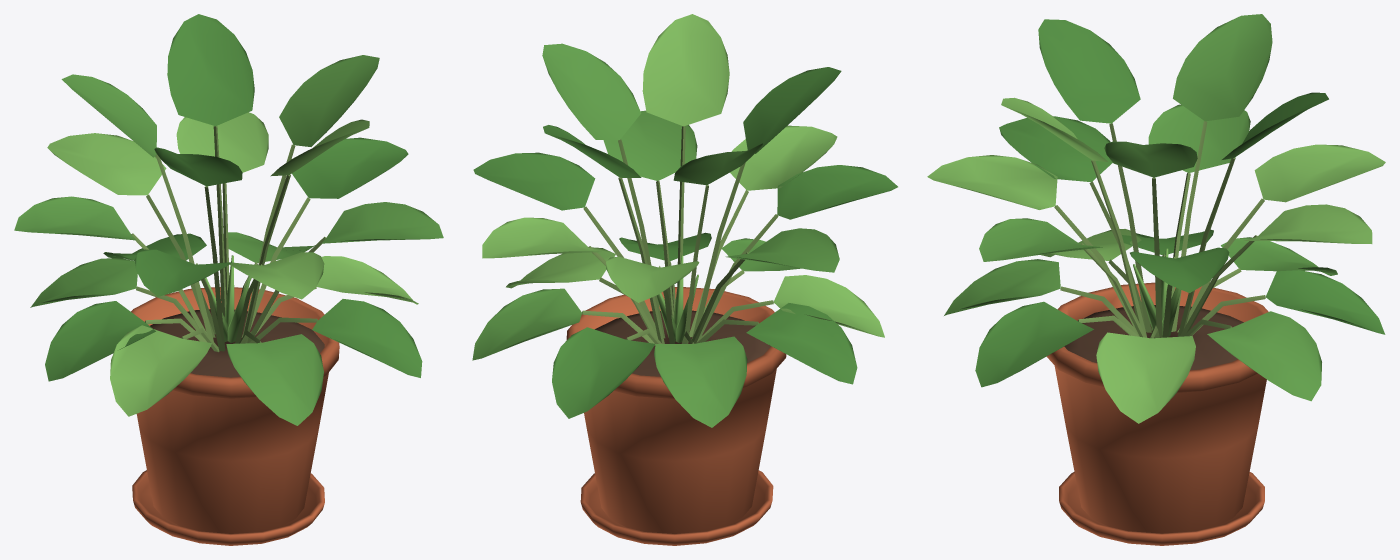
The model's file is plant.glb.
The picture shows the model from 3 angles, left to right: view 1: azimuth 30°, elevation 25°; view 2: azimuth 150°, elevation 25°; view 3: azimuth 270°, elevation 25°; orthographic projection. The views are drawn at different scales.
Visible parts, largest first — view 1: plant; view 2: plant; view 3: plant.
Boxes of the visible parts, box(x1,y1,x2,y2) form: plant: box(14, 14, 443, 545); plant: box(472, 14, 897, 545); plant: box(927, 14, 1385, 545).
Size of the model in its own units: 0.772 by 0.825 by 0.791.
